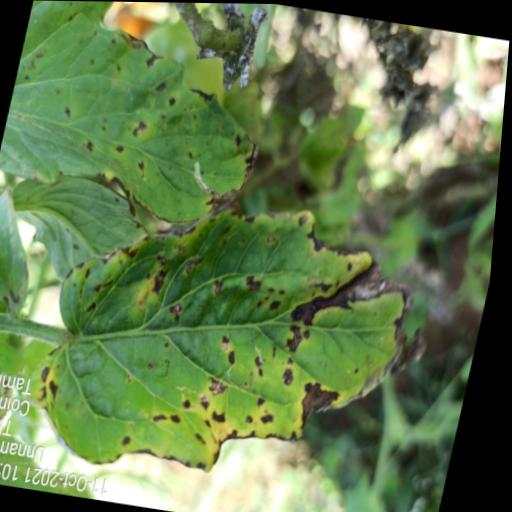Early Blight: (28, 172, 459, 499), (0, 0, 290, 239)
